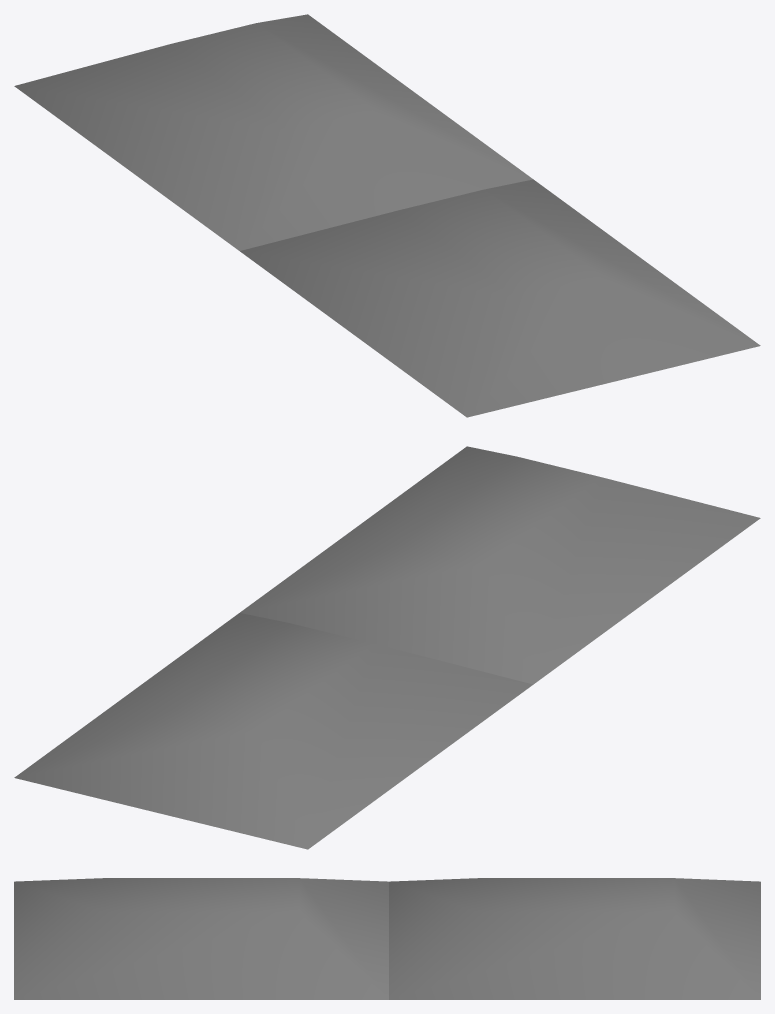
The model's file is Load_cont_cast_Half.glb.
3 renders of one model, top to bottom at view 1: azimuth 30°, elevation 25°; view 2: azimuth 150°, elevation 25°; view 3: azimuth 270°, elevation 25°, orthographic. The views are drawn at different scales.
Parts seen in each view (by area): view 1: Load_cont_cast_Half; view 2: Load_cont_cast_Half; view 3: Load_cont_cast_Half.
Boxes of the visible parts, box(x1,y1,x2,y2) form: Load_cont_cast_Half: box(14, 14, 760, 417); Load_cont_cast_Half: box(14, 446, 760, 849); Load_cont_cast_Half: box(14, 878, 760, 999).
Size of the model in its own units: 2.02 by 0.3609 by 5.38.
1 material, 1 textured.
